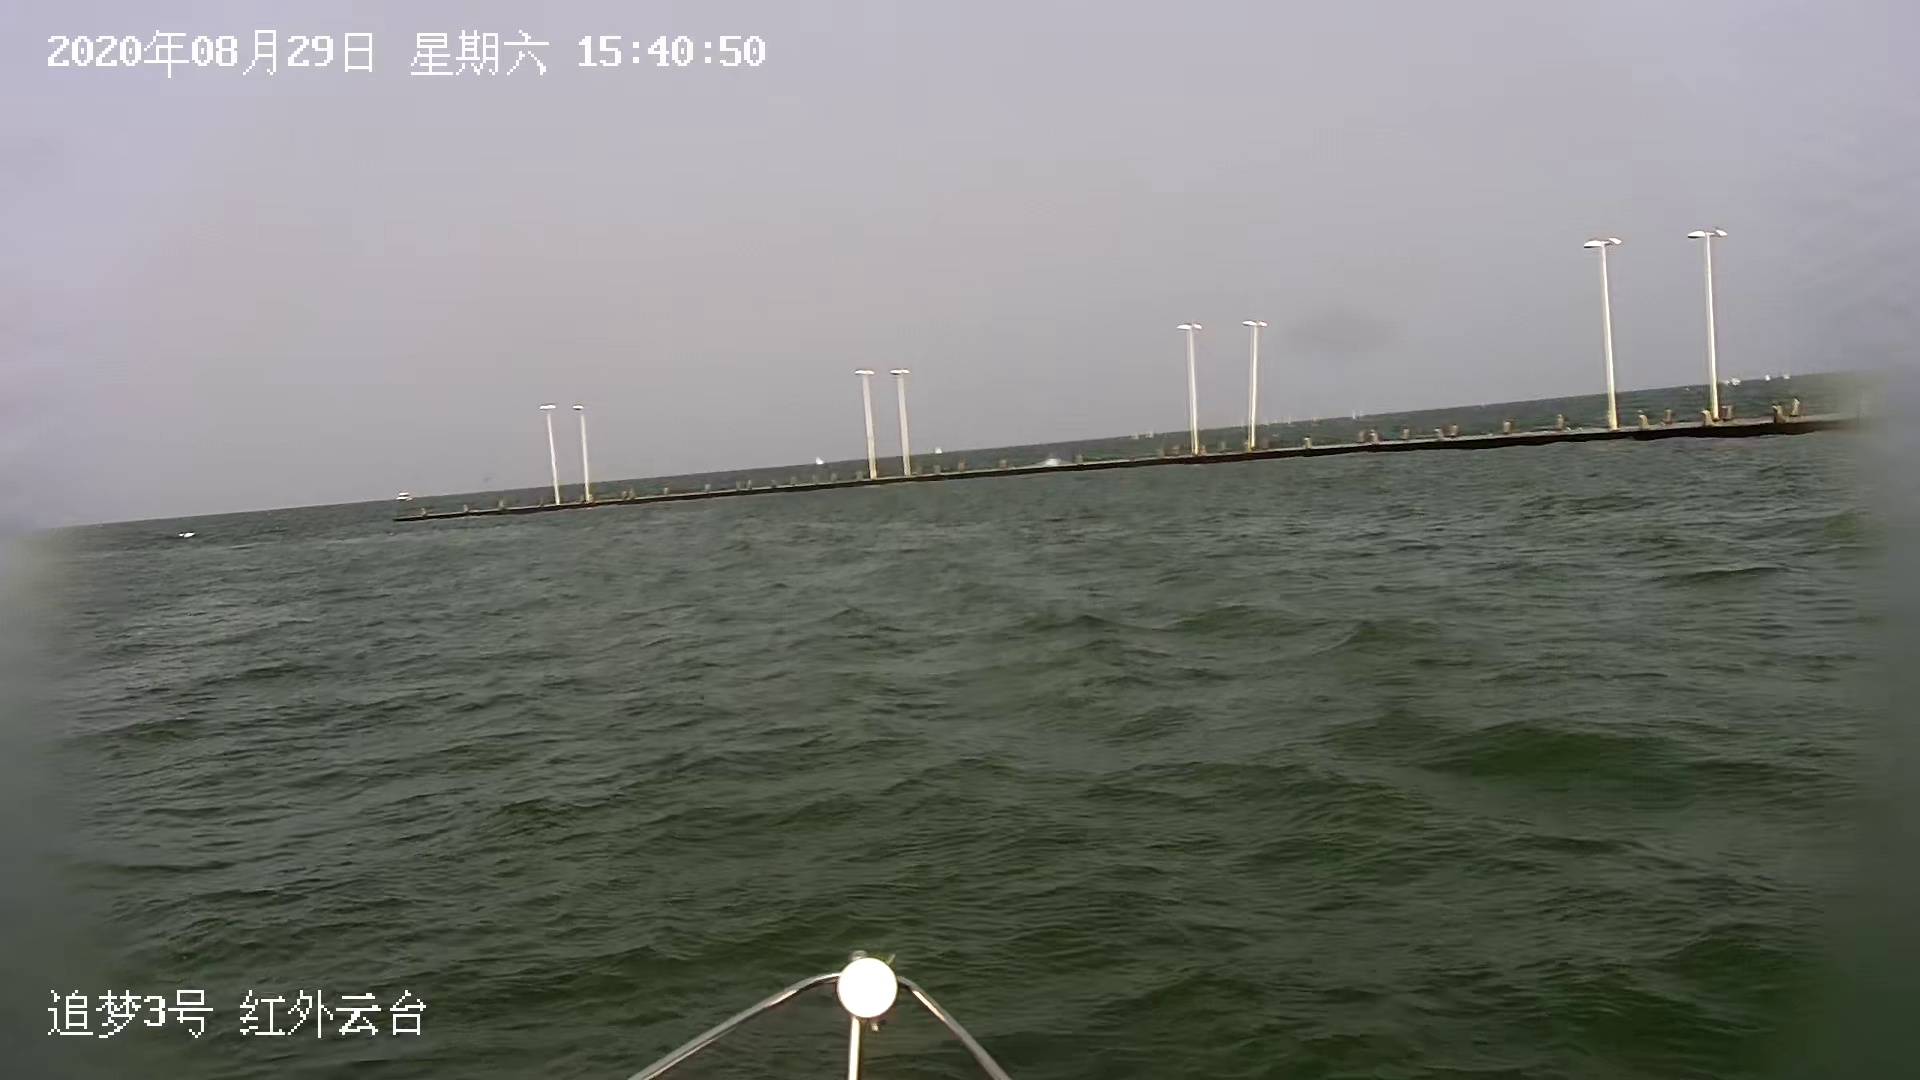barrier: (1722, 376, 1742, 392), (393, 491, 414, 504), (934, 444, 945, 458), (1782, 371, 1793, 382), (816, 456, 827, 468), (1350, 407, 1360, 421), (1286, 414, 1294, 429), (1145, 431, 1154, 442), (1764, 373, 1774, 384), (1131, 431, 1141, 440)
coast: (392, 229, 1920, 524)
